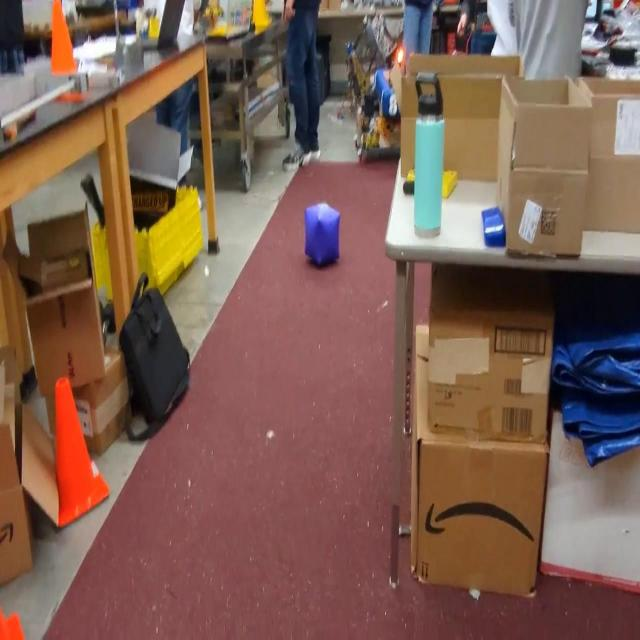frc_cone: (248, 0, 273, 29)
frc_cube: (304, 204, 340, 268)
